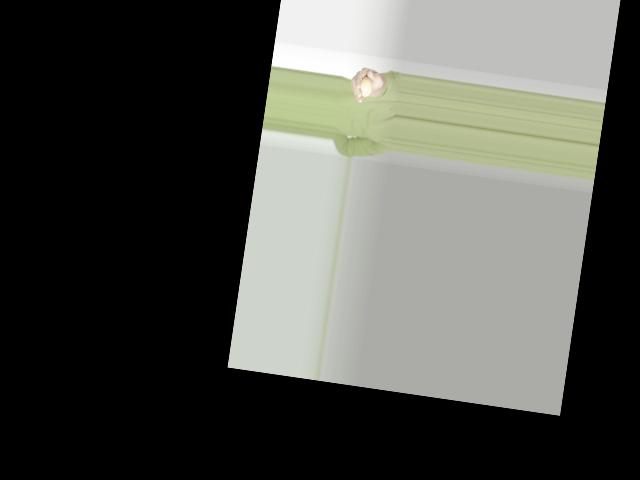egg: (358, 76, 373, 98)
